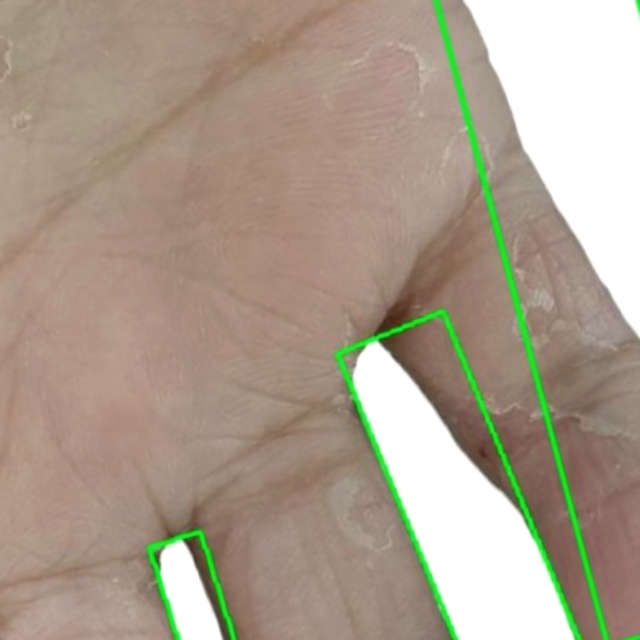Scabies: (336, 311, 577, 639)
